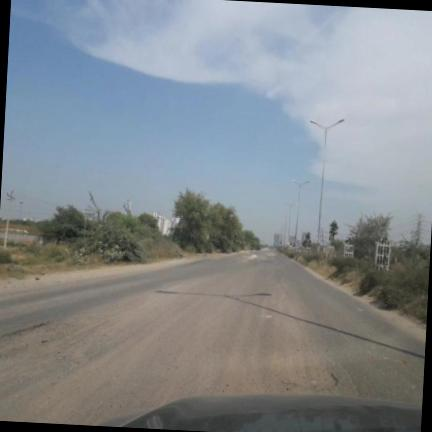Road: (0, 251, 425, 425)
